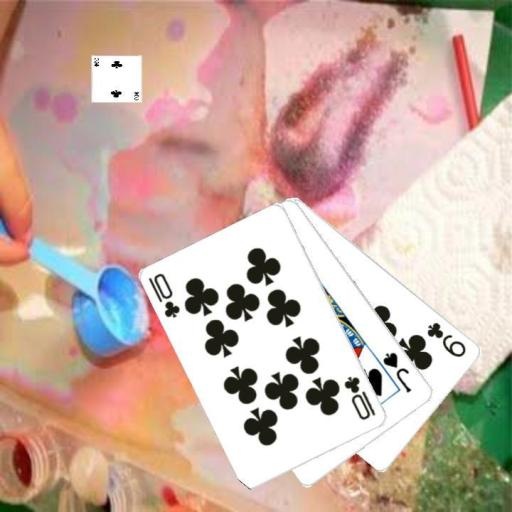10C: (341, 373, 378, 422), (146, 270, 182, 320)
9C: (424, 319, 469, 359)
JS: (380, 349, 413, 395)
